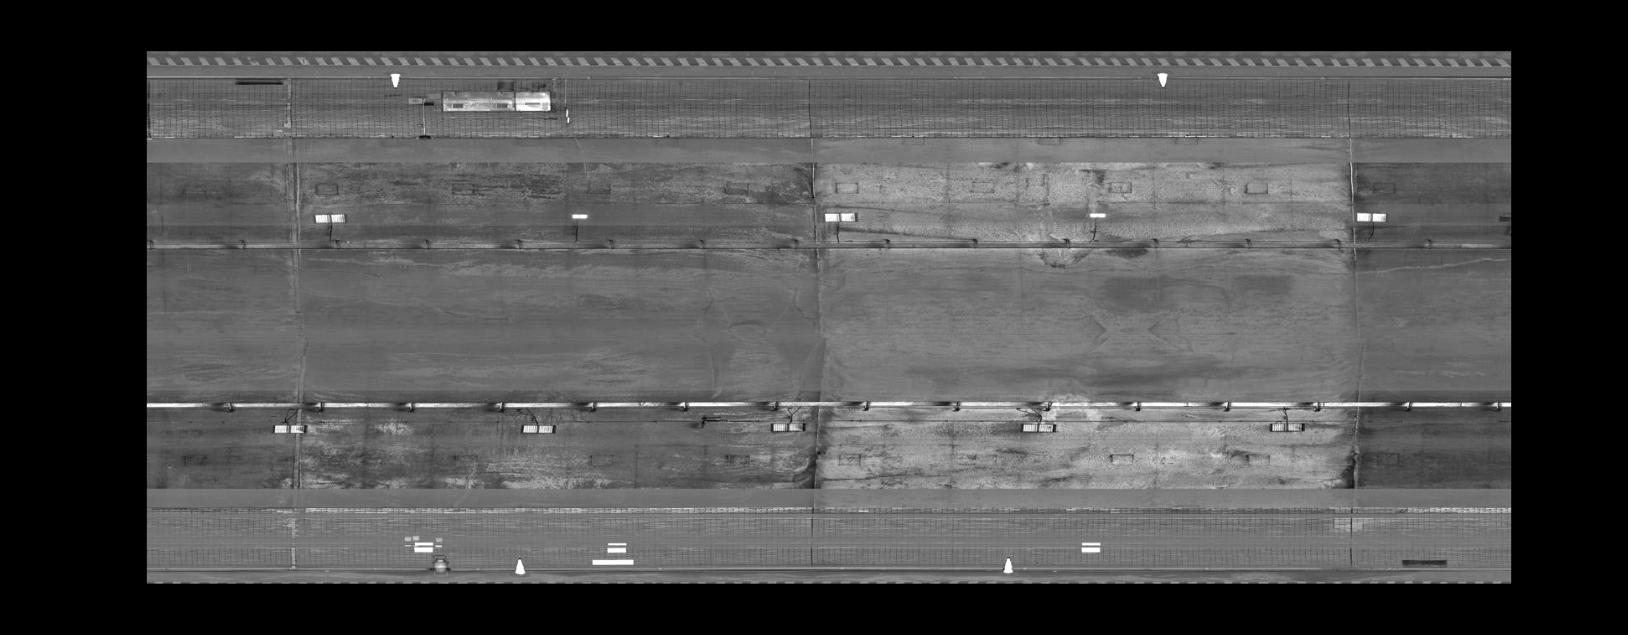light: (1266, 419, 1309, 435), (767, 419, 810, 435), (517, 421, 559, 437), (1019, 421, 1061, 436), (269, 421, 310, 436), (1354, 208, 1392, 223), (821, 209, 859, 224), (311, 211, 351, 225), (1083, 211, 1110, 219), (565, 212, 592, 220)
